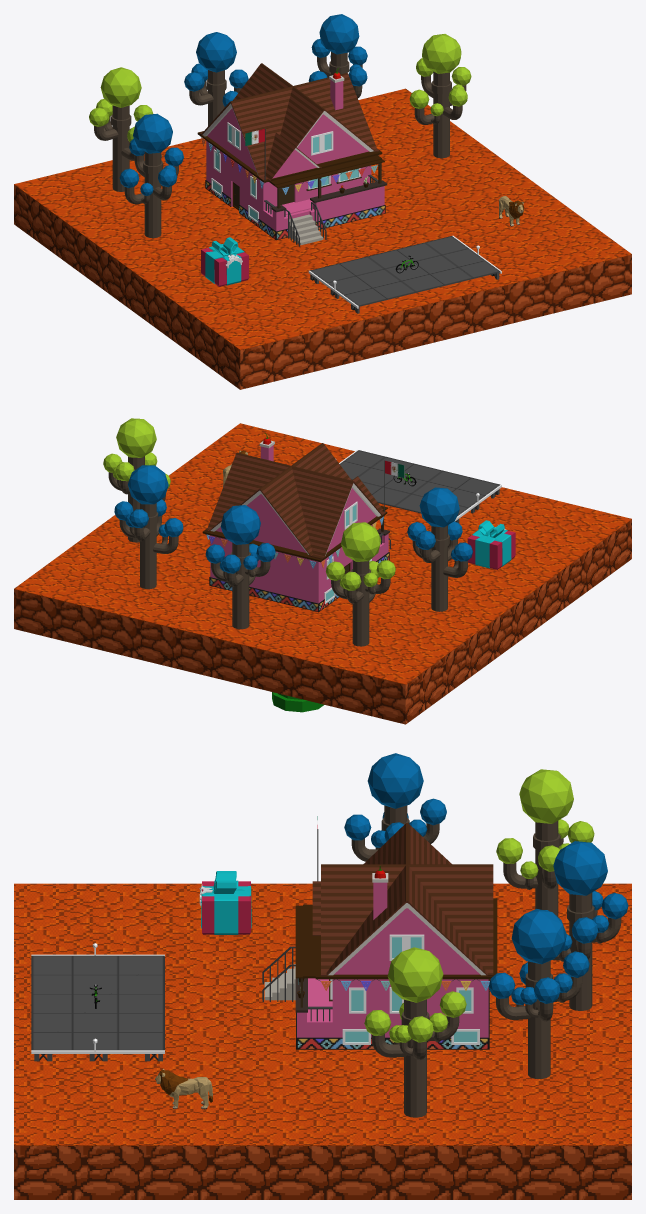
The picture shows the model from 3 angles, top to bottom: view 1: azimuth 30°, elevation 25°; view 2: azimuth 150°, elevation 25°; view 3: azimuth 270°, elevation 25°; orthographic projection. The views are drawn at different scales.
Visible parts, largest first — view 1: Cube.001, Cube.1005, OBJRANDOM_GIANT_PRESENT; view 2: Cube.001, Cube.1005, OBJRANDOM_GIANT_PRESENT, UNDERGROUND_PIPES; view 3: Cube.001, Cube.1005, OBJRANDOM_GIANT_PRESENT, ANIMAL_LEON.
Part boxes in pixels (left/top/right/bottom): Cube.001: left=14, top=14, right=631, bottom=389; Cube.1005: left=197, top=63, right=387, bottom=246; OBJRANDOM_GIANT_PRESENT: left=201, top=237, right=248, bottom=286; Cube.001: left=14, top=418, right=631, bottom=724; Cube.1005: left=202, top=433, right=404, bottom=612; OBJRANDOM_GIANT_PRESENT: left=467, top=520, right=515, bottom=569; UNDERGROUND_PIPES: left=272, top=692, right=324, bottom=712; Cube.001: left=14, top=753, right=631, bottom=1199; Cube.1005: left=262, top=816, right=497, bottom=1049; OBJRANDOM_GIANT_PRESENT: left=199, top=871, right=251, bottom=934; ANIMAL_LEON: left=155, top=1069, right=212, bottom=1109.
Size of the model in its own units: 4000 by 2293 by 4000.
Materials: 67 (6 with a texture image).
